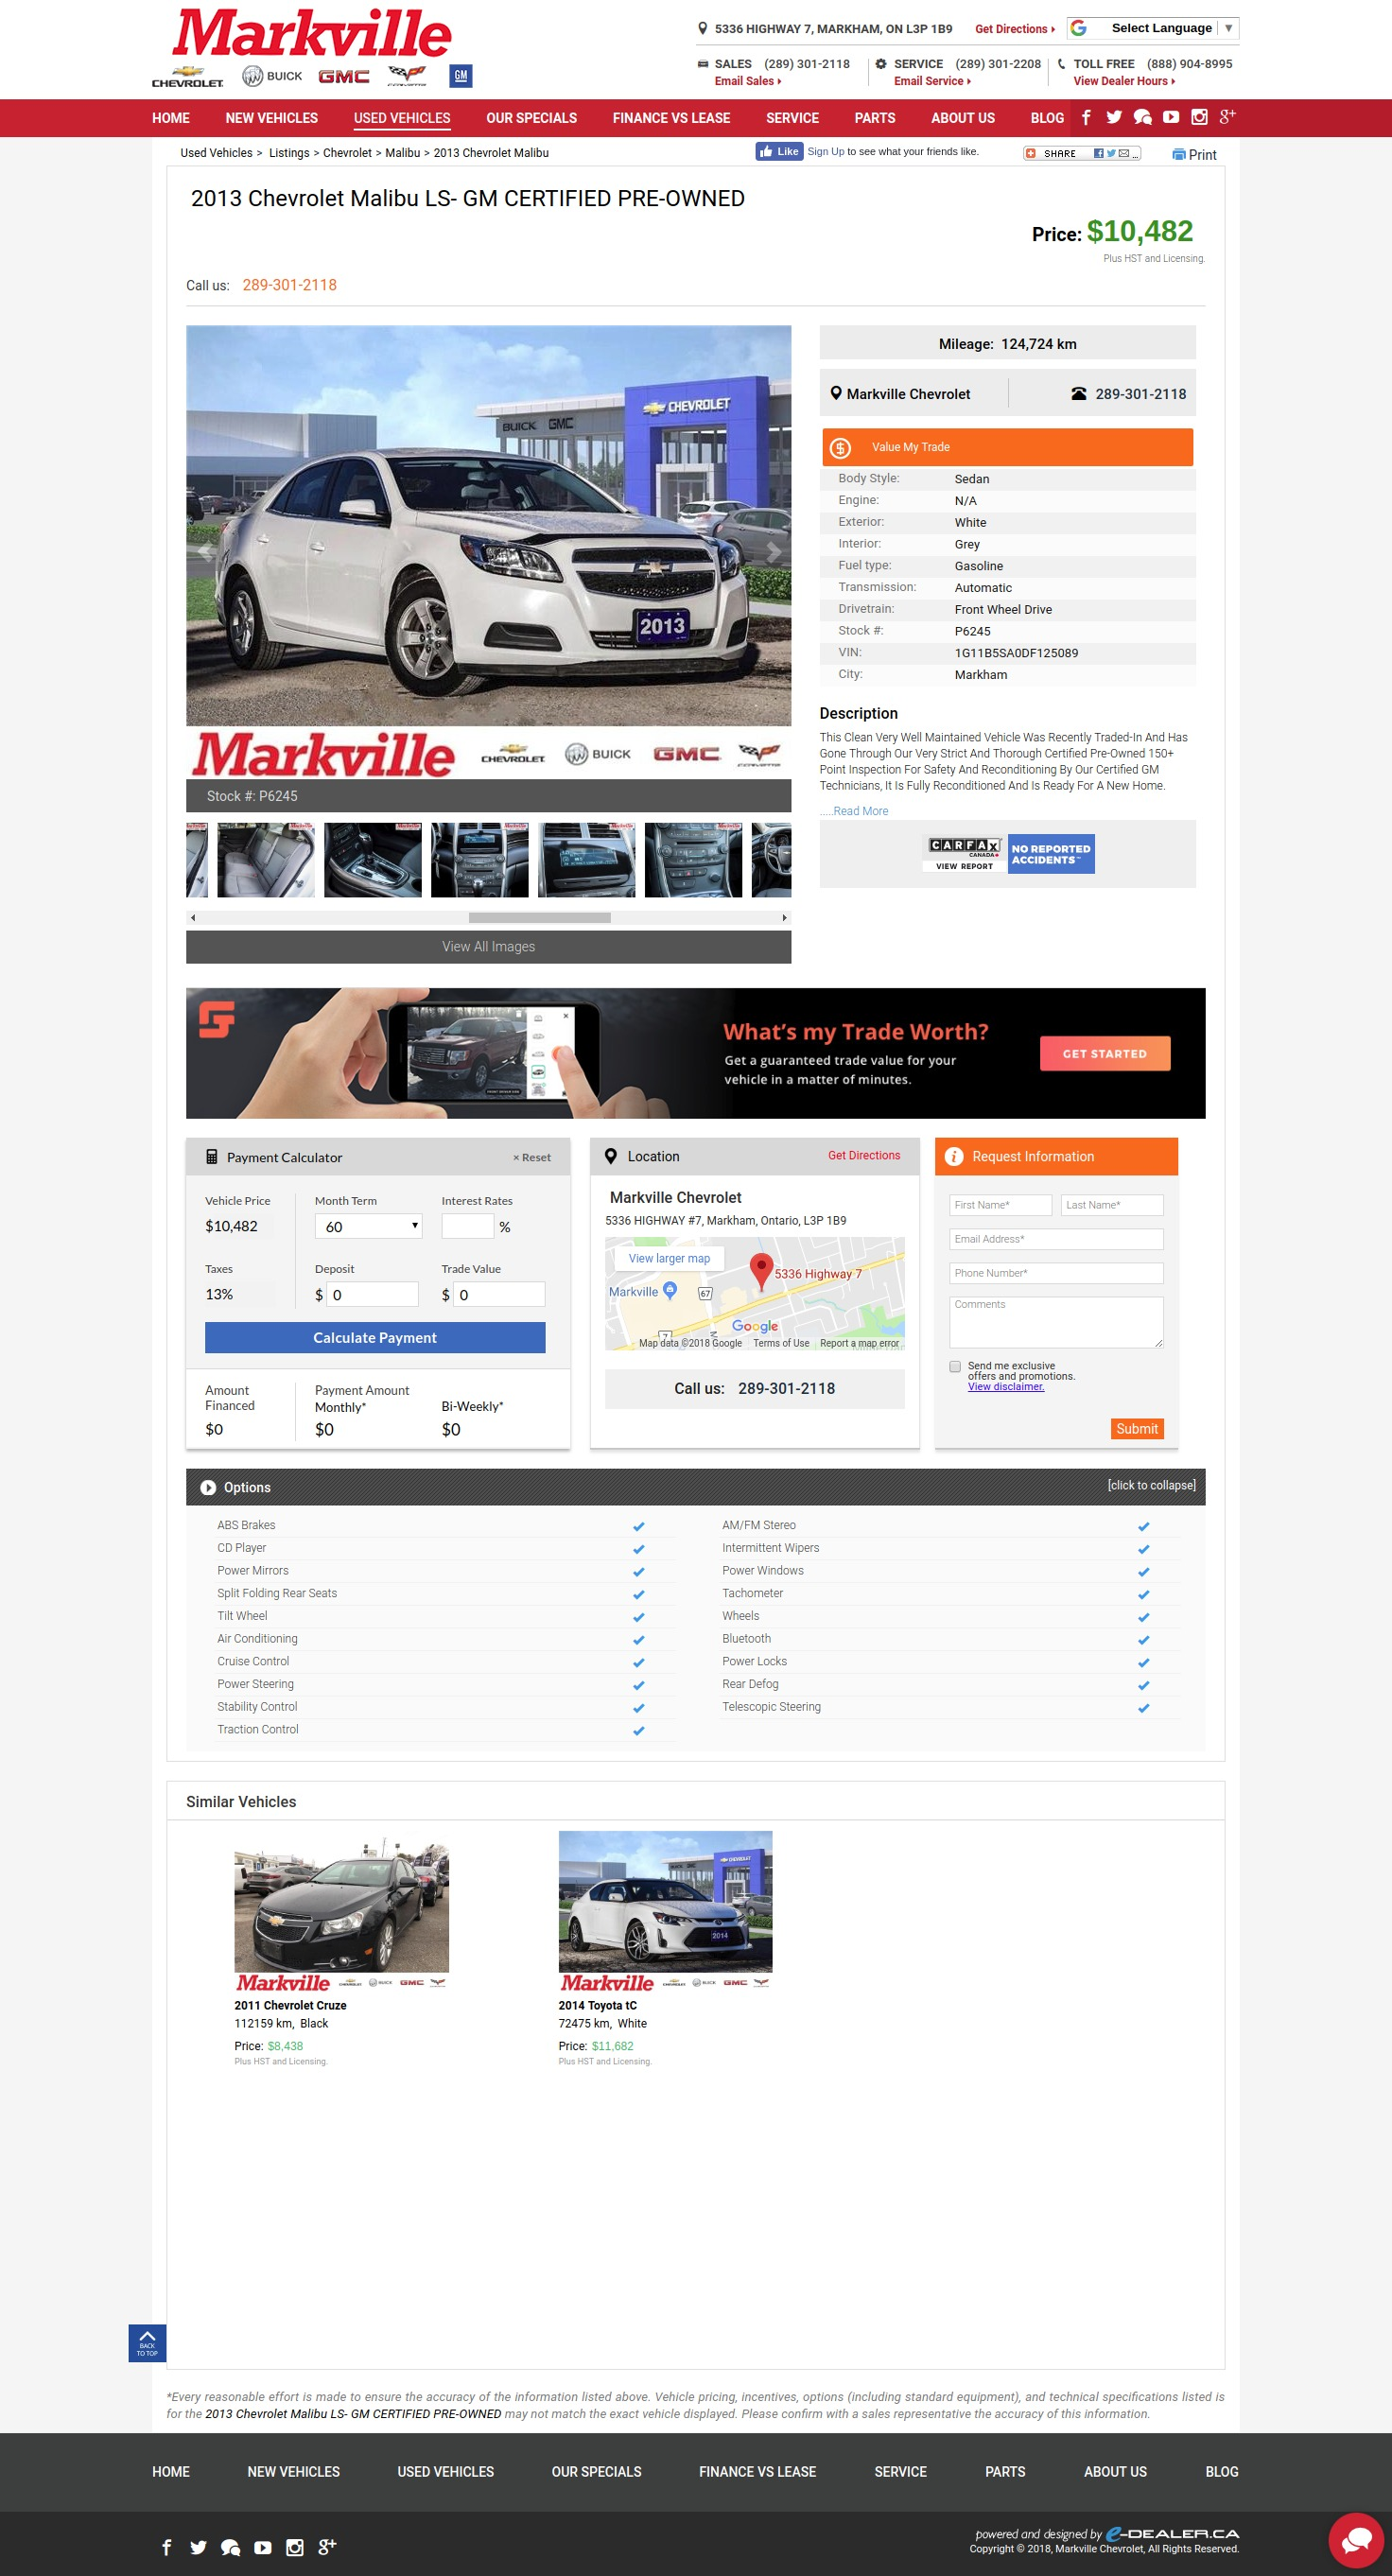car: (783, 915, 789, 922)
